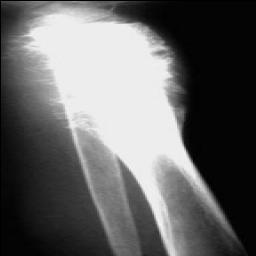cancer: (1, 2, 217, 245)
